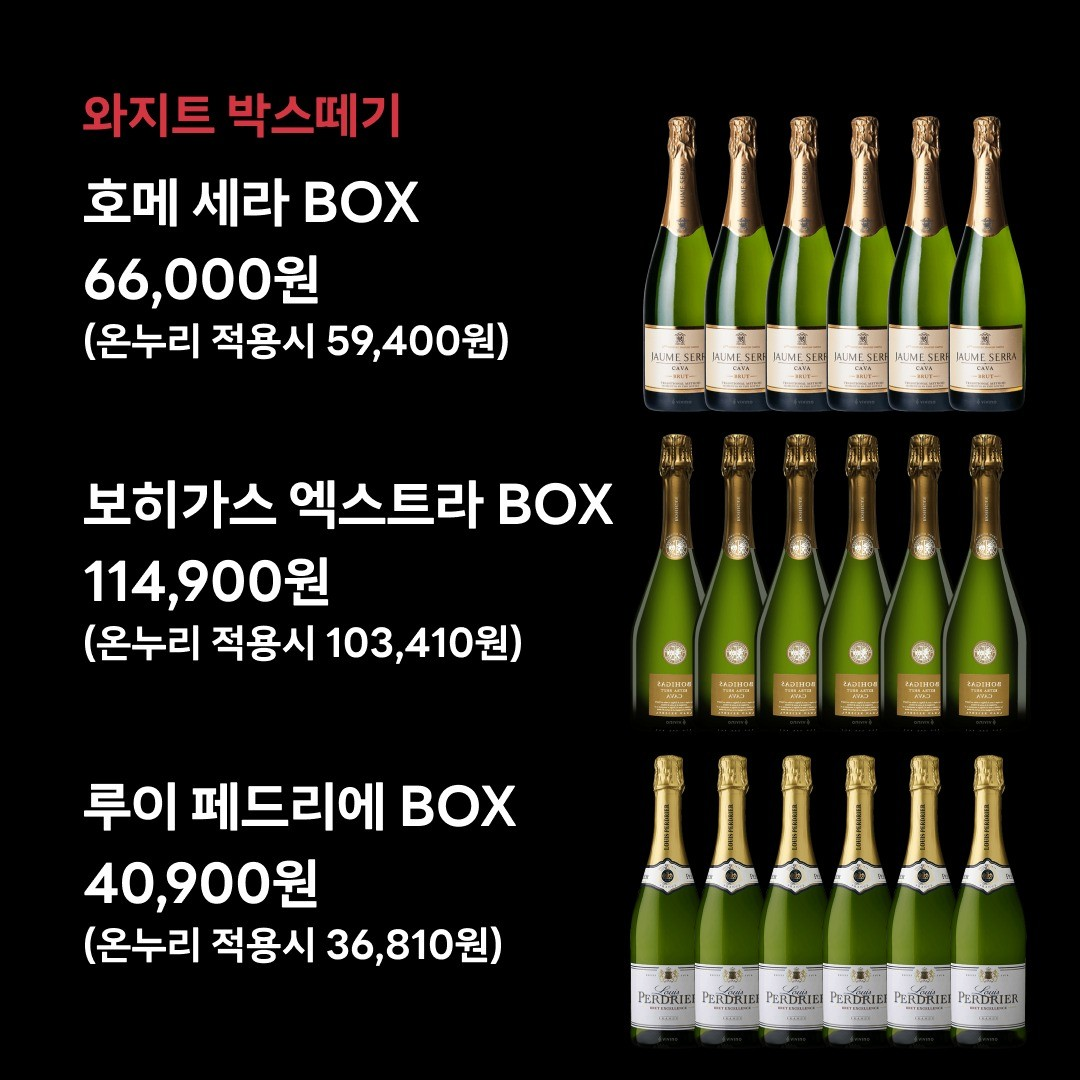alcohol: (936, 425, 1031, 740), (626, 429, 715, 743), (814, 426, 901, 742), (875, 426, 961, 743), (945, 755, 1032, 1067), (944, 110, 1031, 417), (882, 110, 968, 418), (882, 757, 966, 1065), (751, 428, 833, 743), (755, 757, 837, 1064), (698, 429, 778, 743), (818, 755, 897, 1065), (690, 757, 769, 1063), (763, 110, 841, 418), (822, 111, 896, 420), (702, 111, 774, 420), (635, 114, 706, 417), (635, 757, 703, 1064)
